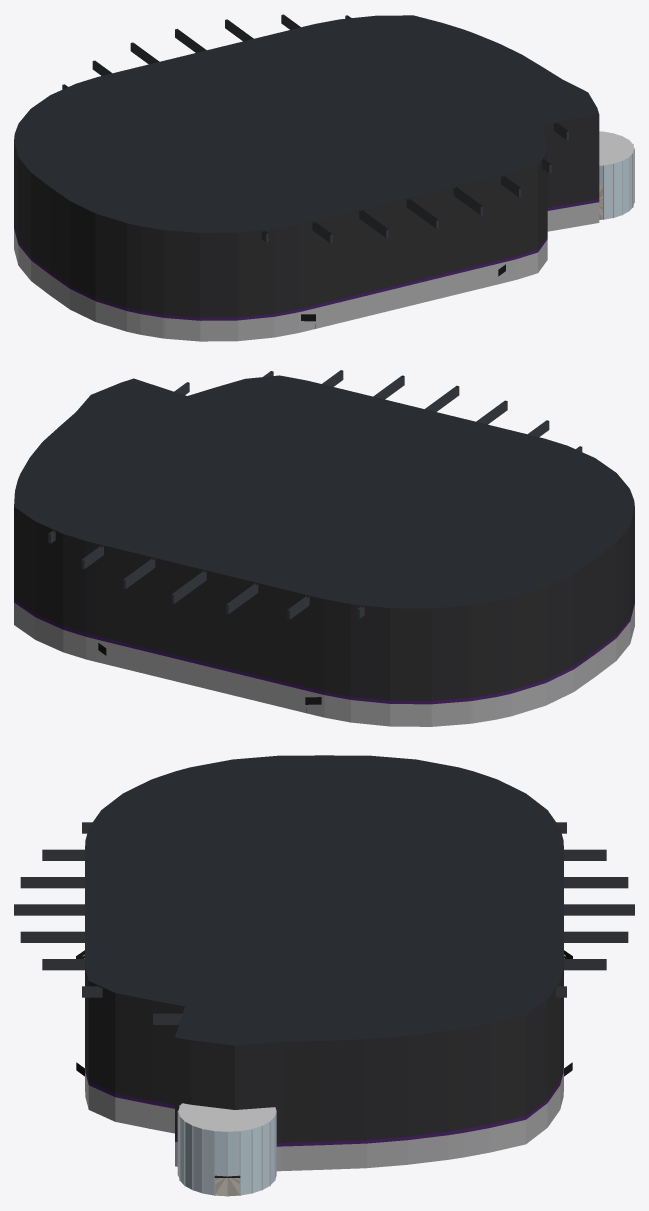
File: arena_int.glb
The picture shows the model from 3 angles, top to bottom: view 1: azimuth 30°, elevation 25°; view 2: azimuth 150°, elevation 25°; view 3: azimuth 270°, elevation 25°; orthographic projection. The views are drawn at different scales.
Visible parts, largest first — view 1: arena_int; view 2: arena_int; view 3: arena_int.
Part boxes in pixels (bbox=[...]): arena_int: bbox=[14, 14, 634, 341]; arena_int: bbox=[14, 370, 634, 726]; arena_int: bbox=[14, 755, 634, 1196].
Size of the model in its own units: 114 by 22 by 96.
